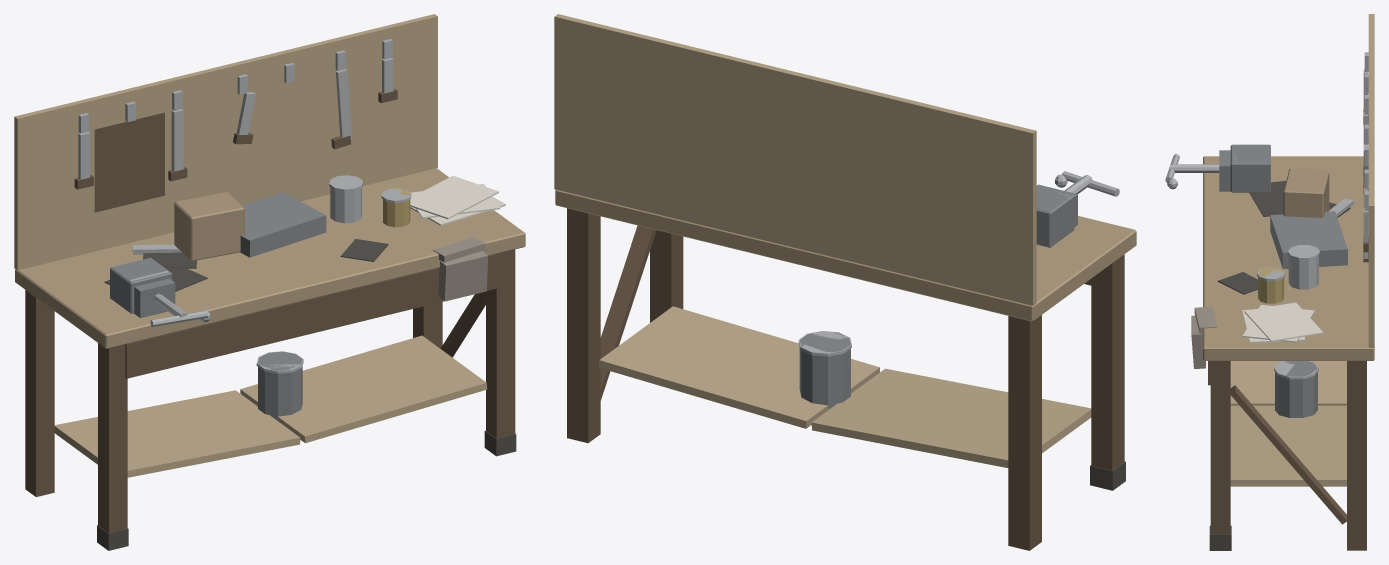
The model's file is Dress_Workbench.fbx.
3 renders of one model, left to right at view 1: azimuth 30°, elevation 25°; view 2: azimuth 150°, elevation 25°; view 3: azimuth 270°, elevation 25°, orthographic. The views are drawn at different scales.
Parts seen in each view (by area): view 1: Dress_Workbench; view 2: Dress_Workbench; view 3: Dress_Workbench.
Boxes of the visible parts, x1,y1,x2,y2 form: Dress_Workbench: [14, 14, 525, 550]; Dress_Workbench: [554, 14, 1136, 550]; Dress_Workbench: [1165, 14, 1374, 550].
Bounding box in the file's own units: 184 × 152 × 82.92.
